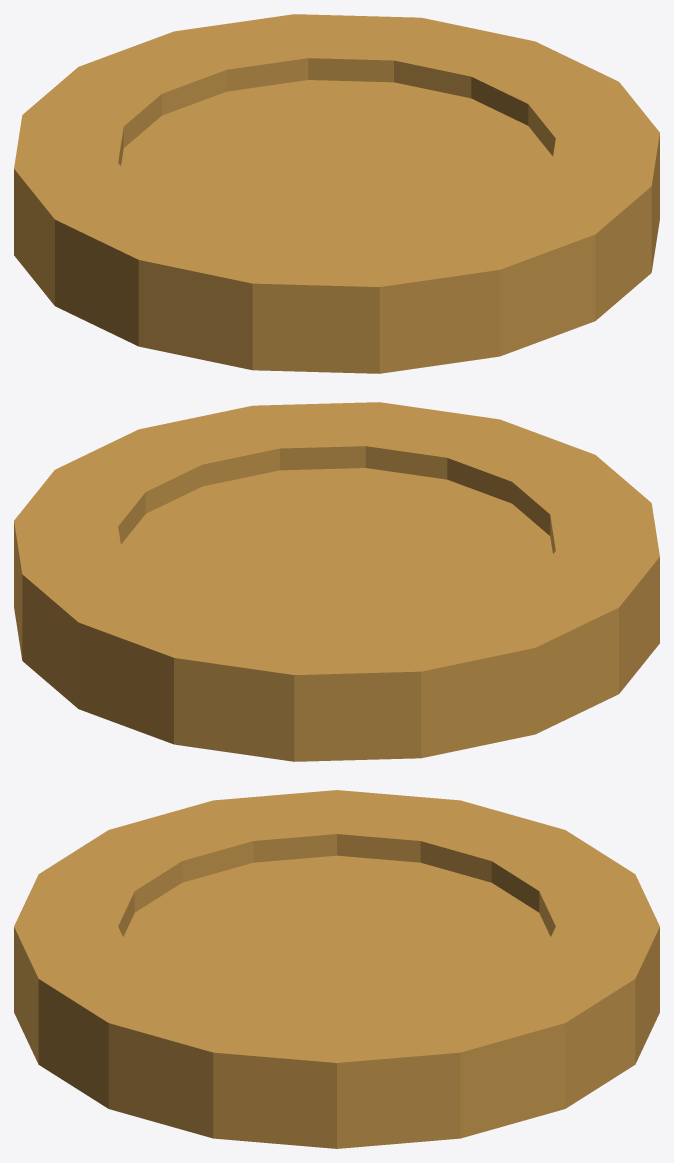
File: M_Coin.fbx
The picture shows the model from 3 angles, top to bottom: view 1: azimuth 30°, elevation 25°; view 2: azimuth 150°, elevation 25°; view 3: azimuth 270°, elevation 25°; orthographic projection.
Visible parts, largest first — view 1: Coin; view 2: Coin; view 3: Coin.
Boxes of the visible parts, x1=… form: Coin: x1=14, y1=14, x2=659, y2=373; Coin: x1=14, y1=402, x2=659, y2=761; Coin: x1=14, y1=790, x2=659, y2=1148.
Size of the model in its own units: 49.35 by 7.24 by 49.35.
